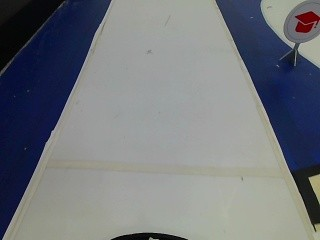school: (284, 6, 318, 45)
